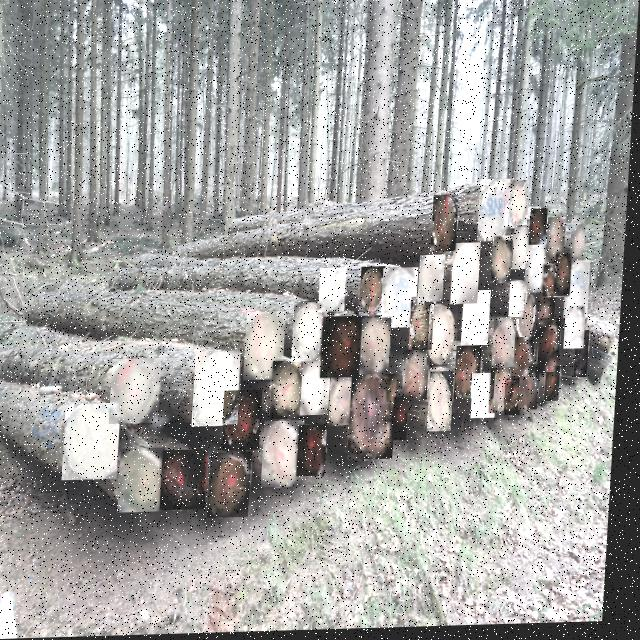wood-log: (69, 404, 125, 480), (354, 377, 399, 461), (199, 352, 244, 427), (116, 360, 164, 424), (125, 449, 170, 513), (249, 314, 289, 381), (215, 454, 256, 519), (167, 451, 212, 510), (269, 423, 308, 489), (327, 319, 367, 380), (229, 392, 266, 451), (386, 270, 421, 330), (277, 363, 311, 421), (297, 304, 330, 363), (481, 183, 514, 242), (454, 246, 483, 307), (365, 321, 395, 377), (306, 362, 336, 417), (433, 306, 460, 367), (467, 293, 494, 349), (434, 198, 460, 253), (335, 378, 363, 428), (434, 374, 457, 434), (304, 428, 331, 478), (460, 348, 485, 402), (569, 265, 593, 321), (414, 300, 439, 353), (542, 322, 565, 377), (363, 269, 388, 318), (408, 353, 432, 403), (422, 258, 448, 304), (497, 321, 520, 371), (323, 270, 349, 313), (477, 376, 501, 421), (496, 368, 518, 416), (529, 248, 551, 295), (524, 368, 544, 413), (568, 312, 589, 352), (517, 341, 539, 379), (512, 184, 530, 230), (496, 242, 515, 285), (550, 221, 568, 266), (516, 231, 534, 272), (540, 302, 558, 342), (558, 258, 575, 299), (398, 400, 414, 443), (580, 335, 594, 381), (532, 212, 549, 248), (510, 382, 526, 418), (514, 285, 528, 321), (574, 228, 588, 264), (550, 370, 564, 404), (548, 269, 561, 300)
